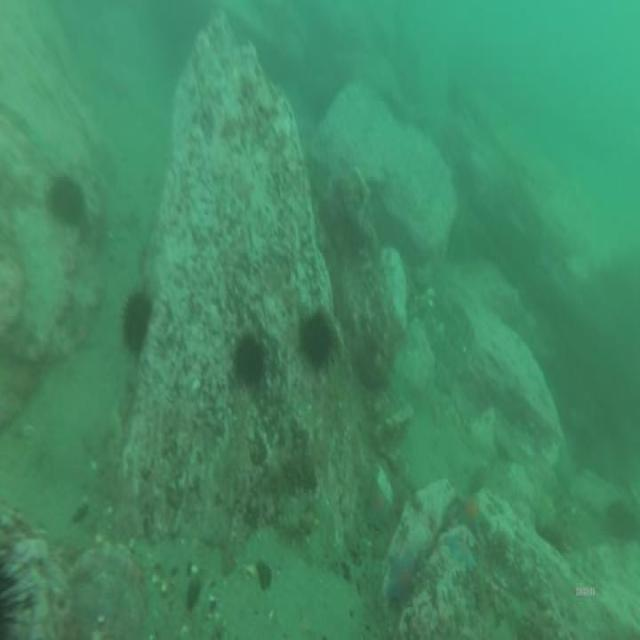echinus: (49, 177, 83, 229), (302, 315, 332, 368), (122, 292, 148, 352), (236, 340, 262, 382)
holothurian: (108, 406, 126, 465)
starfish: (386, 558, 415, 608), (442, 531, 473, 566), (367, 482, 389, 531), (69, 313, 97, 351), (458, 490, 484, 529)
